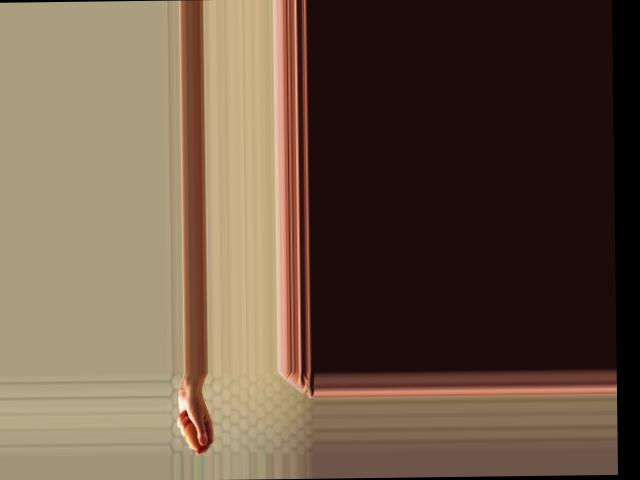egg: (183, 421, 205, 449)
